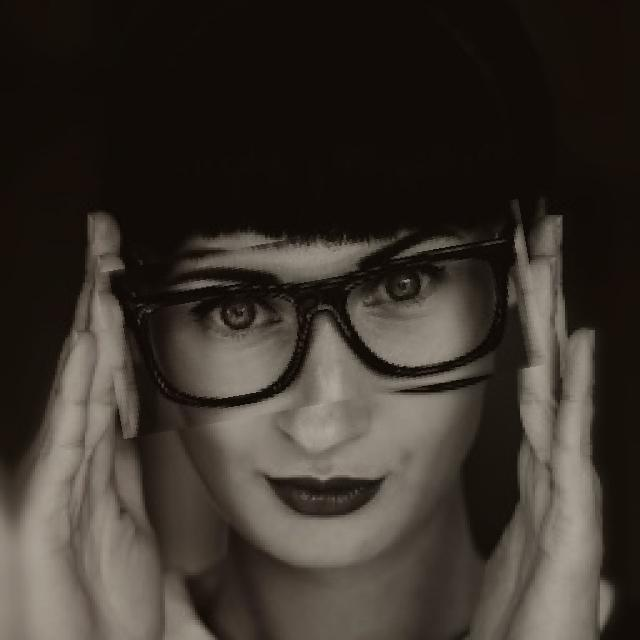glasses: (100, 217, 542, 421)
